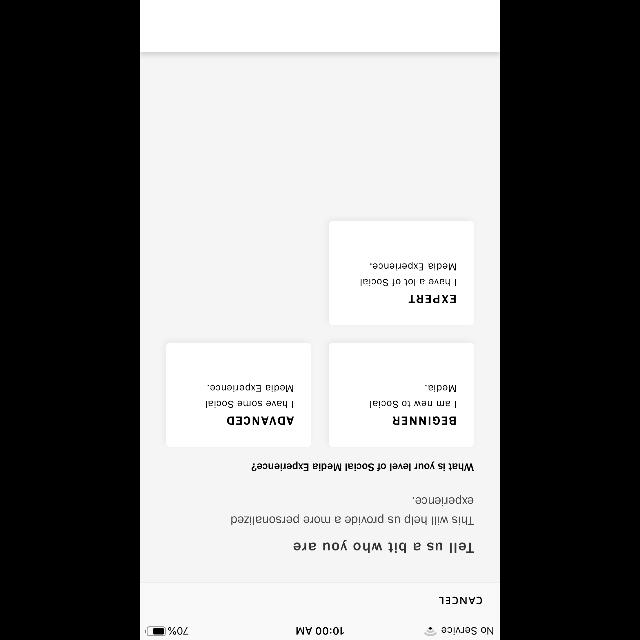text: (232, 495, 474, 525), (360, 262, 456, 286), (294, 540, 474, 552), (205, 384, 292, 408), (252, 462, 474, 471), (370, 386, 456, 408), (227, 417, 293, 425), (393, 417, 455, 425), (408, 295, 456, 303), (439, 598, 481, 604)
uppertaskbar: (140, 626, 500, 640)
